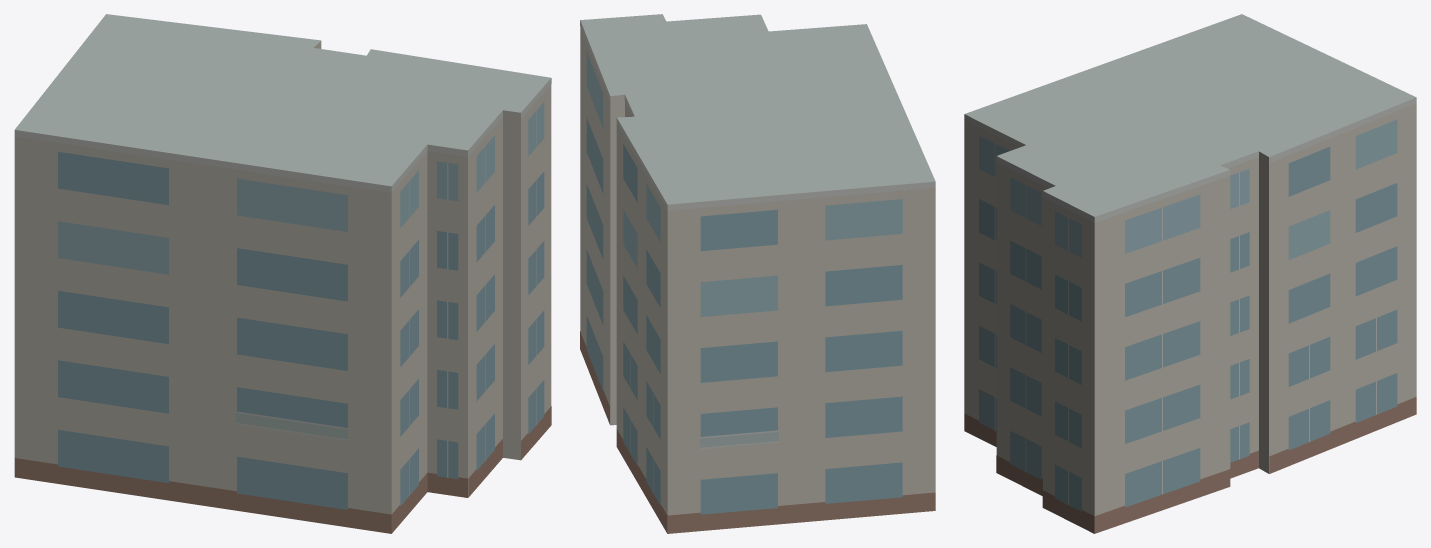
The model's file is survey-upis-32881090.glb.
The picture shows the model from 3 angles, left to right: view 1: azimuth 30°, elevation 25°; view 2: azimuth 150°, elevation 25°; view 3: azimuth 270°, elevation 25°; orthographic projection. The views are drawn at different scales.
Visible parts, largest first — view 1: survey-upis-32881090.tmp; view 2: survey-upis-32881090.tmp; view 3: survey-upis-32881090.tmp.
Part boxes in pixels (<box>): survey-upis-32881090.tmp: <box>14,14,551,533</box>; survey-upis-32881090.tmp: <box>580,14,935,533</box>; survey-upis-32881090.tmp: <box>964,14,1416,533</box>.
Size of the model in its own units: 18 by 13.1 by 16.95.
